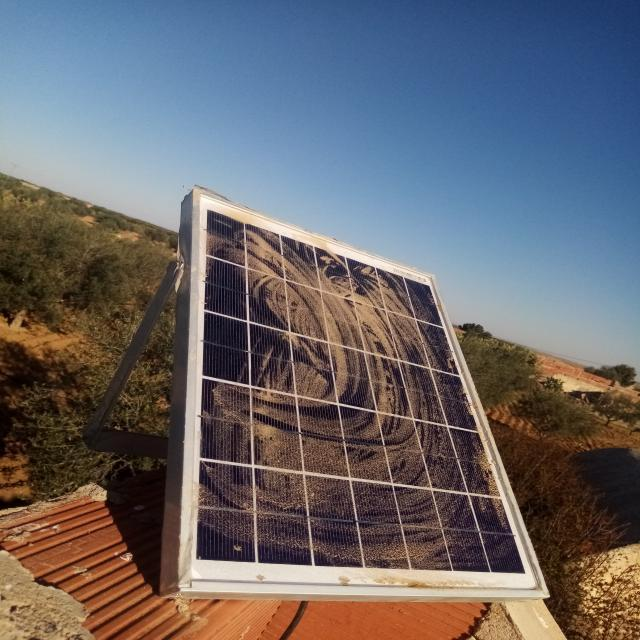faulty: (183, 191, 552, 595)
